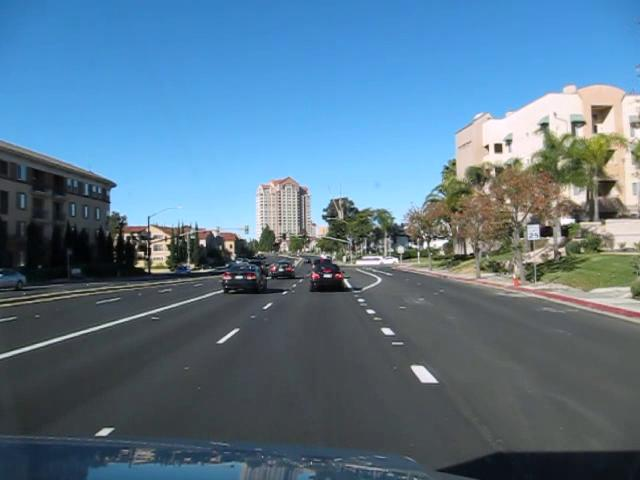speedLimit25: (526, 223, 540, 240)
